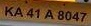character: (4, 5, 14, 17), (13, 7, 24, 17), (44, 9, 53, 20), (26, 7, 34, 18), (71, 10, 79, 21), (57, 9, 64, 21), (79, 11, 87, 21), (34, 7, 40, 18), (65, 10, 71, 21)
